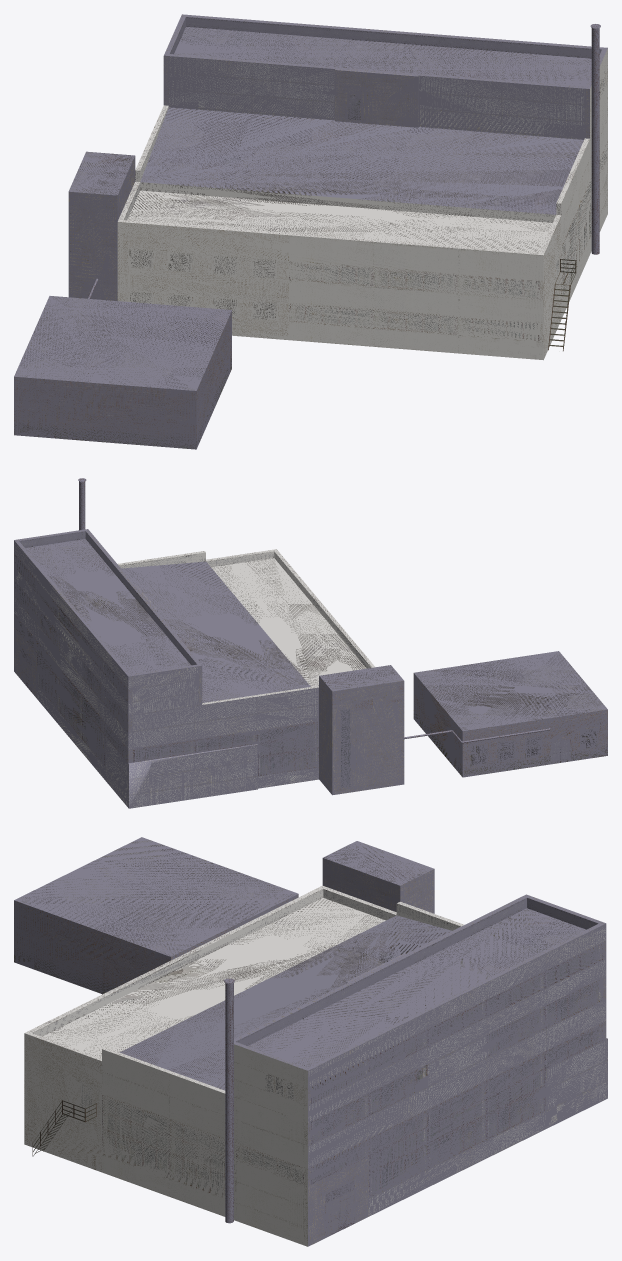
Rendered from Sklad3.fbx.
3 views of the same model, one above another, from view 1: azimuth 30°, elevation 25°; view 2: azimuth 150°, elevation 25°; view 3: azimuth 270°, elevation 25° (orthographic). The views are drawn at different scales.
Visible parts, largest first — view 1: Group1; view 2: Group1; view 3: Group1.
Boxes of the visible parts, box(x1,y1,x2,y2) form: Group1: box(14, 14, 607, 449); Group1: box(14, 478, 607, 808); Group1: box(14, 837, 607, 1246).
Bounding box in the file's own units: 56.79 × 18.32 × 40.99.
